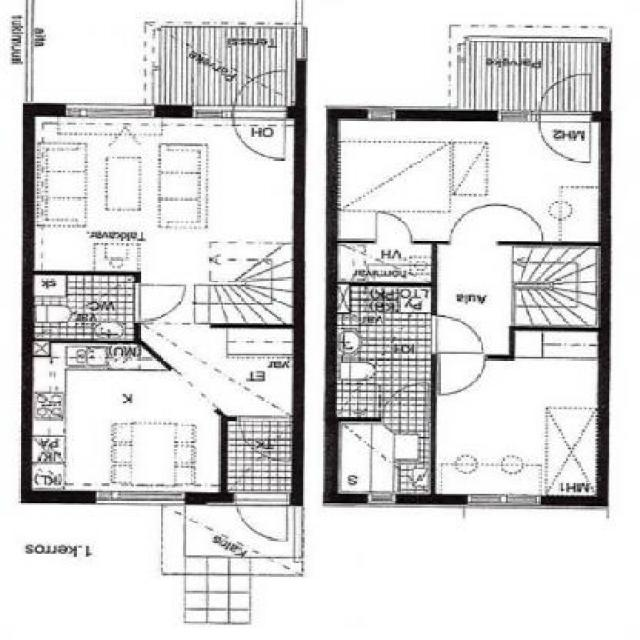door: (35, 117, 294, 491), (337, 118, 601, 357), (32, 343, 226, 492), (434, 331, 597, 494), (137, 322, 295, 418), (337, 285, 428, 420), (337, 420, 428, 494), (35, 275, 138, 340), (226, 417, 292, 491), (338, 242, 432, 284)
window: (537, 110, 591, 164), (237, 492, 294, 543), (232, 110, 286, 162), (430, 315, 488, 354), (434, 355, 486, 397), (132, 282, 186, 322), (384, 382, 430, 416), (374, 209, 414, 245)
zone: (96, 491, 186, 506), (468, 496, 540, 506), (68, 109, 157, 117), (495, 106, 534, 120), (366, 491, 397, 503), (194, 108, 226, 119), (370, 110, 396, 118)
